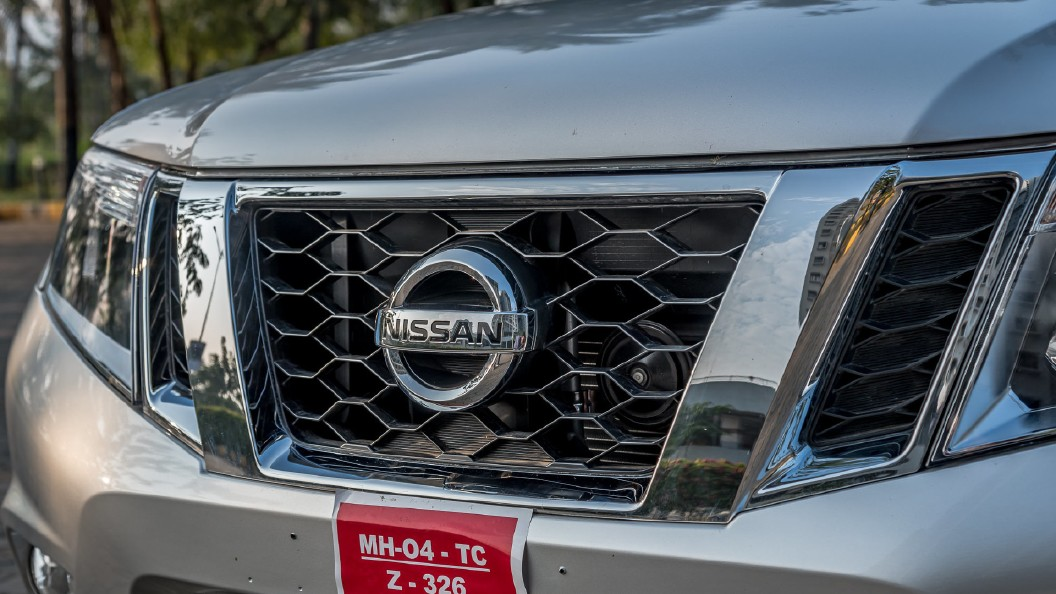number_plate: (339, 493, 531, 593)
